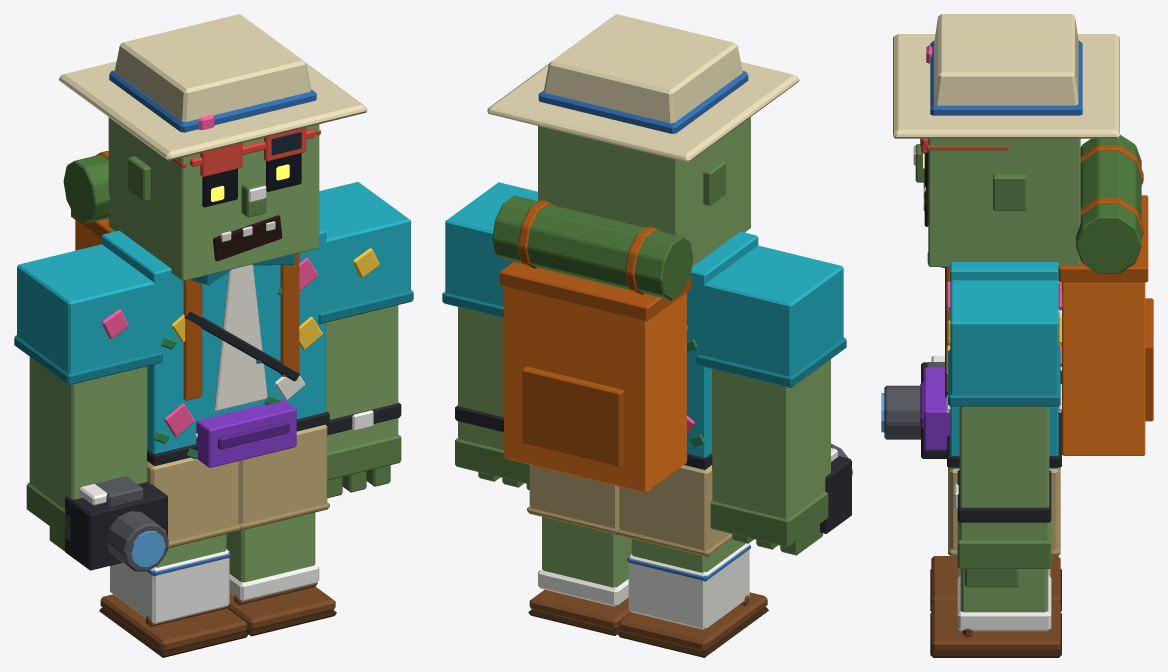
Rendered from myw_zombietourist.glb.
3 views of the same model, side by side, from view 1: azimuth 30°, elevation 25°; view 2: azimuth 150°, elevation 25°; view 3: azimuth 270°, elevation 25° (orthographic). The views are drawn at different scales.
Visible parts, largest first — view 1: Torso, RightArm, Hat, Head, LeftArm, RightLeg, LeftLeg, Camera, CameraLens; view 2: Torso, RightArm, Hat, RightLeg, Head, LeftArm, LeftLeg, Camera; view 3: Torso, LeftArm, Hat, Head, LeftLeg, Camera, RightLeg.
Part boxes in pixels (x1,y1,x2,y2): Torso: [63, 151, 329, 467]; RightArm: [14, 244, 162, 551]; Hat: [58, 14, 367, 160]; Head: [108, 117, 320, 280]; LeftArm: [318, 182, 413, 498]; RightLeg: [99, 457, 248, 657]; LeftLeg: [226, 424, 336, 636]; Camera: [65, 476, 168, 571]; CameraLens: [130, 531, 165, 566]; Torso: [492, 196, 758, 492]; RightArm: [696, 245, 846, 555]; Hat: [487, 14, 799, 162]; RightLeg: [617, 465, 768, 657]; Head: [538, 117, 750, 266]; LeftArm: [442, 182, 537, 490]; LeftLeg: [527, 465, 632, 635]; Camera: [820, 443, 852, 533]; Torso: [920, 134, 1153, 468]; LeftArm: [947, 280, 1060, 587]; Hat: [893, 14, 1119, 138]; Head: [913, 138, 1080, 266]; LeftLeg: [930, 467, 1061, 657]; Camera: [884, 355, 946, 458]; RightLeg: [930, 467, 1061, 611].
Bounding box in the file's own units: 3.92 × 6.05 × 2.61.
